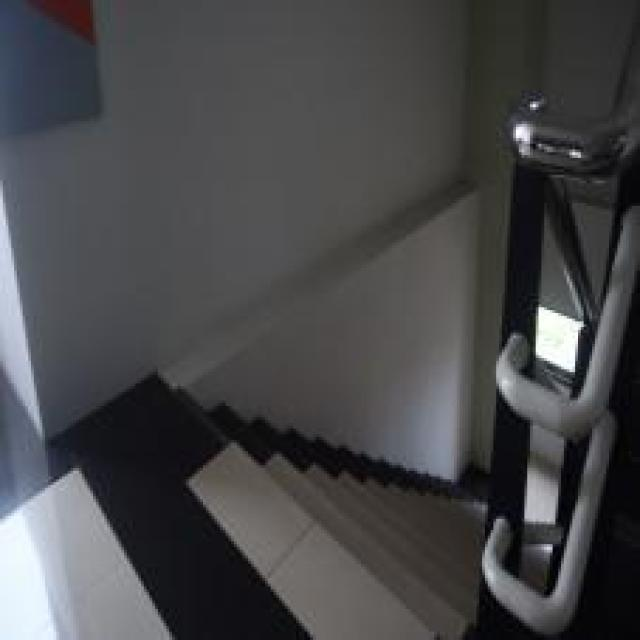downstair: (136, 390, 486, 638)
